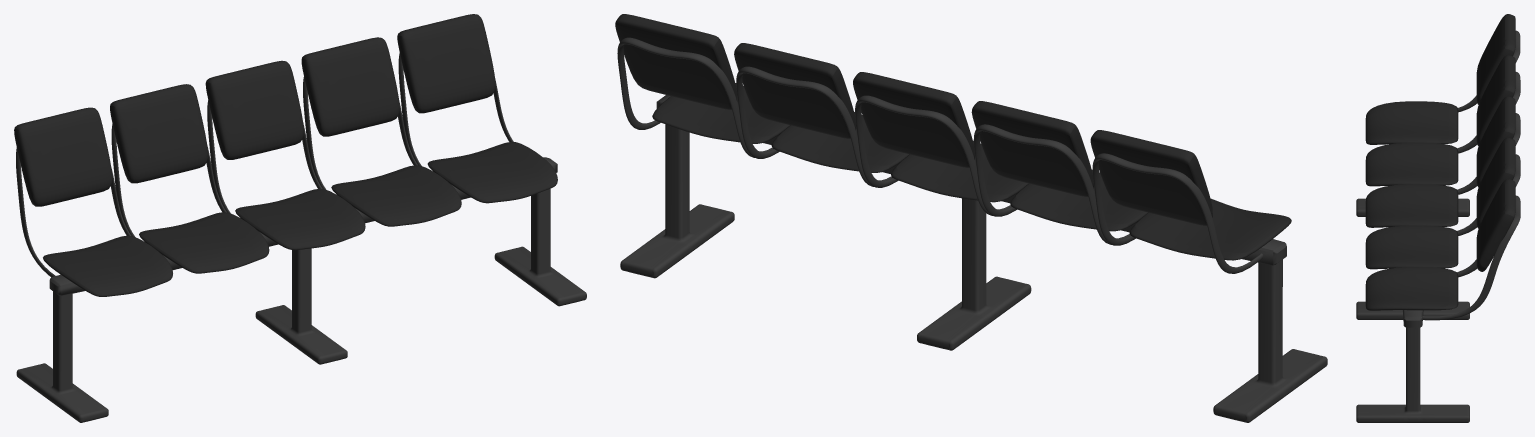
3 renders of one model, left to right at view 1: azimuth 30°, elevation 25°; view 2: azimuth 150°, elevation 25°; view 3: azimuth 270°, elevation 25°, orthographic. The views are drawn at different scales.
Parts seen in each view (by area): view 1: geometry_0; view 2: geometry_0; view 3: geometry_0.
Part boxes in pixels (bbox=[...]): geometry_0: bbox=[14, 14, 586, 422]; geometry_0: bbox=[615, 14, 1327, 422]; geometry_0: bbox=[1356, 14, 1520, 422].
Size of the model in its own units: 1.97 by 0.85 by 0.6248.
1 material, 1 textured.
